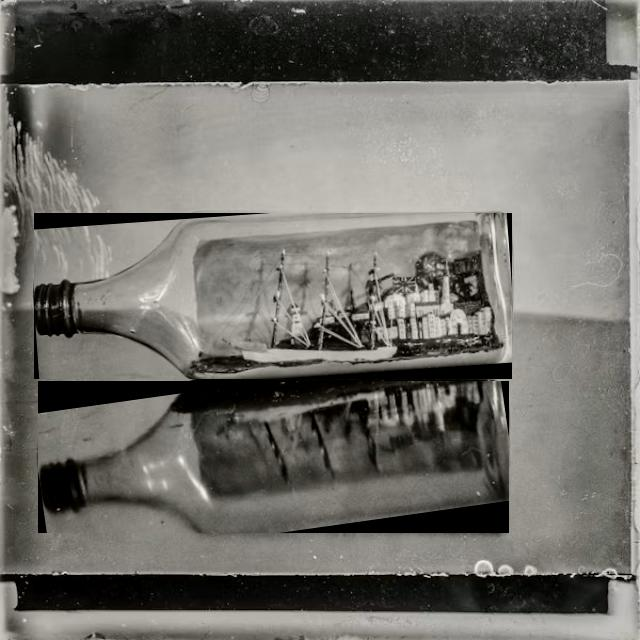Bottle: (35, 214, 511, 378), (39, 381, 508, 533)
